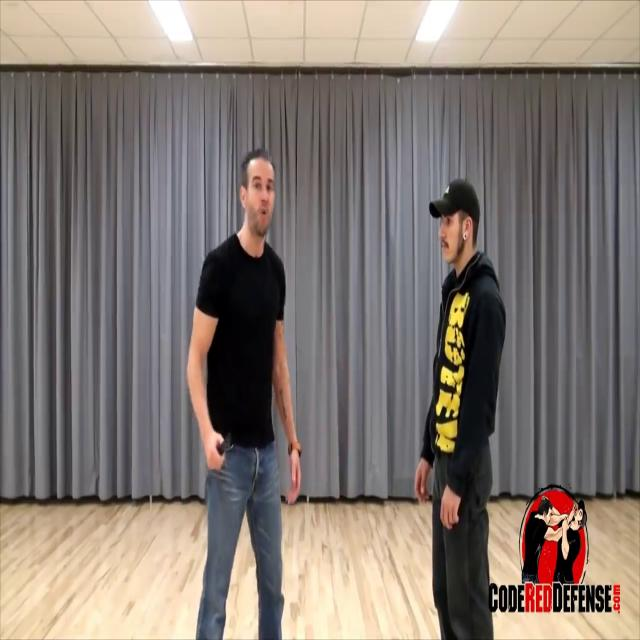Knife_Handle: (205, 431, 234, 469)
